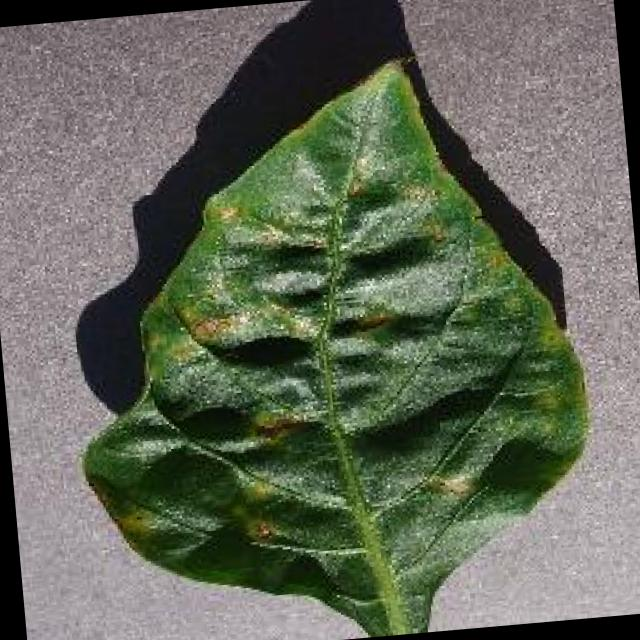Chilli_Bacterial_Spot: (46, 40, 609, 640), (152, 151, 479, 560), (252, 260, 330, 304), (242, 401, 310, 449), (198, 188, 252, 236), (416, 464, 479, 504), (184, 307, 238, 344), (524, 381, 570, 422), (233, 472, 276, 506), (348, 306, 394, 335), (209, 199, 244, 227), (247, 517, 277, 547)
